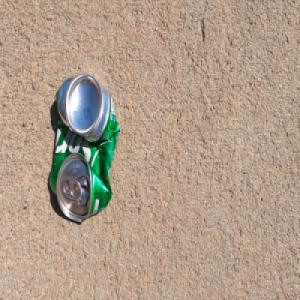SodaCan: (48, 71, 120, 225)
